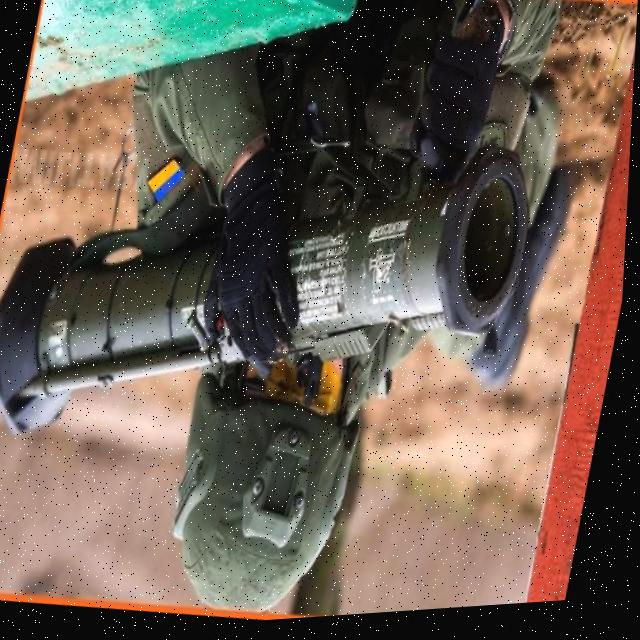rocket: (0, 49, 555, 539)
